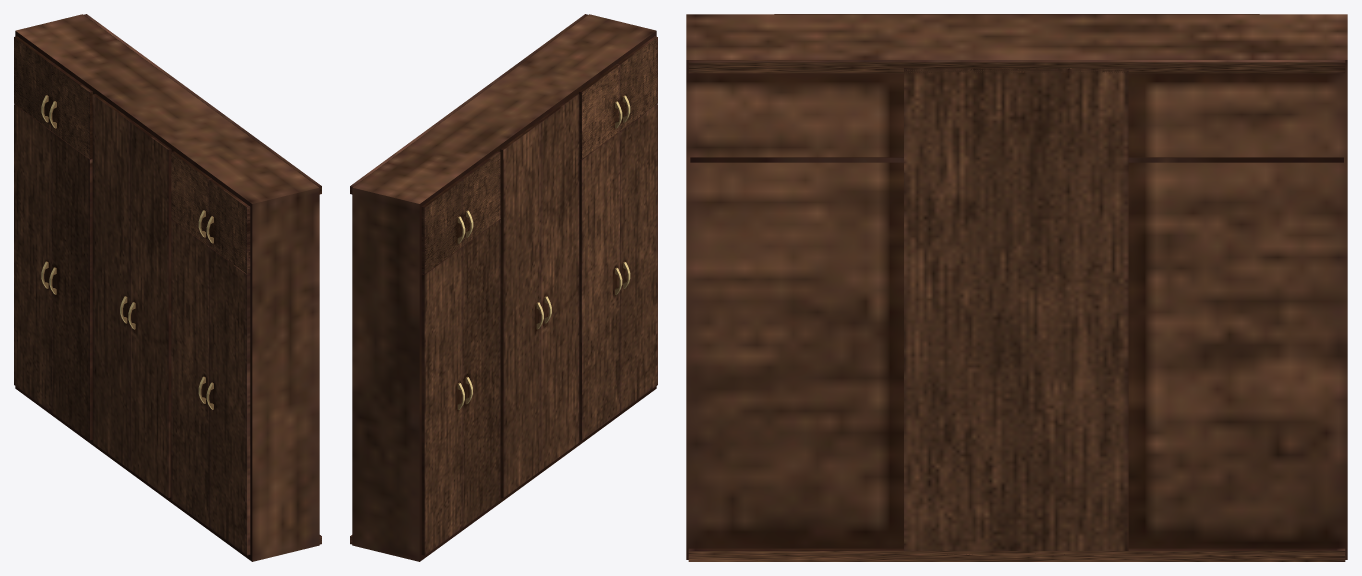
The model's file is Obj_Guarda_Roupa.fbx.
3 views of the same model, side by side, from view 1: azimuth 30°, elevation 25°; view 2: azimuth 150°, elevation 25°; view 3: azimuth 270°, elevation 25° (orthographic). The views are drawn at different scales.
Visible parts, largest first — view 1: pCylinder2, pCube8, pCube6, pCube10, pCube22, pCube9, pCube21, pCube16, pCube19, pCube15, pCube20, pCube2; view 2: pCylinder2, pCube6, pCube8, pCube21, pCube9, pCube22, pCube10, pCube20, pCube15, pCube19, pCube16, pCube2; view 3: pCylinder2, pCube1, pCube2, pCube3.
Part boxes in pixels (left/top/right/bottom): pCylinder2: left=15, top=14, right=319, bottom=561; pCube8: left=130, top=121, right=171, bottom=497; pCube6: left=92, top=94, right=133, bottom=469; pCube10: left=209, top=247, right=250, bottom=555; pCube22: left=52, top=132, right=92, bottom=440; pCube9: left=171, top=219, right=209, bottom=527; pCube21: left=14, top=104, right=51, bottom=412; pCube16: left=209, top=179, right=250, bottom=274; pCube19: left=52, top=64, right=92, bottom=158; pCube15: left=171, top=151, right=211, bottom=246; pCube20: left=14, top=36, right=54, bottom=130; pCube2: left=84, top=14, right=321, bottom=194; pCylinder2: left=352, top=14, right=656, bottom=561; pCube6: left=500, top=121, right=541, bottom=497; pCube8: left=538, top=94, right=579, bottom=469; pCube21: left=421, top=247, right=462, bottom=555; pCube9: left=579, top=132, right=619, bottom=440; pCube22: left=462, top=219, right=500, bottom=527; pCube10: left=620, top=104, right=657, bottom=412; pCube20: left=421, top=179, right=462, bottom=274; pCube15: left=579, top=64, right=619, bottom=159; pCube19: left=460, top=151, right=500, bottom=246; pCube16: left=617, top=36, right=657, bottom=130; pCube2: left=350, top=14, right=587, bottom=194; pCylinder2: left=686, top=14, right=1347, bottom=559; pCube1: left=904, top=68, right=1128, bottom=550; pCube2: left=688, top=60, right=1345, bottom=73; pCube3: left=688, top=548, right=1345, bottom=561.
Bounding box in the file's own units: 0.5803 × 2.5 × 3.
1 material, 1 textured.
